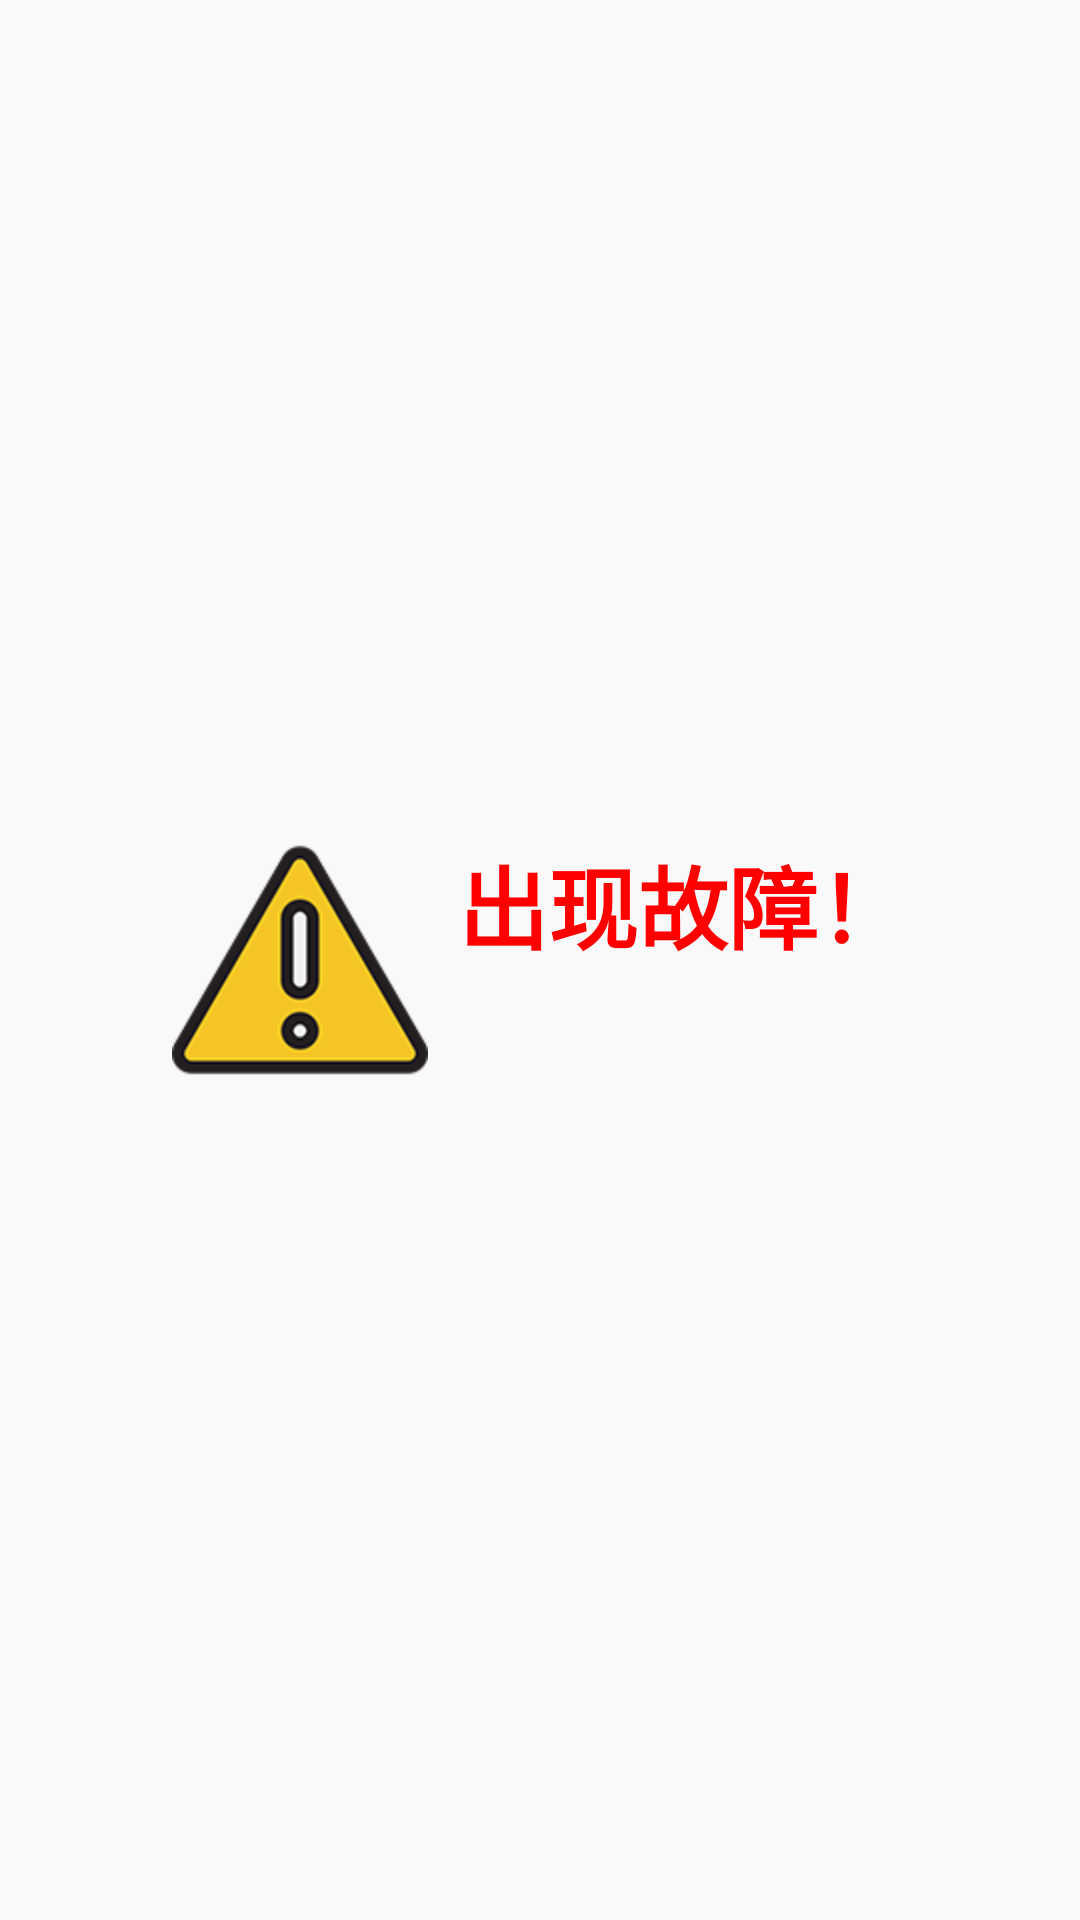

Locate icon controls on the screen. Image size 1080px×1920px, boxes as [x1=x1, y1=y1, x2=x2, y2=y2].
warning: [x1=172, y1=845, x2=428, y2=1075]
